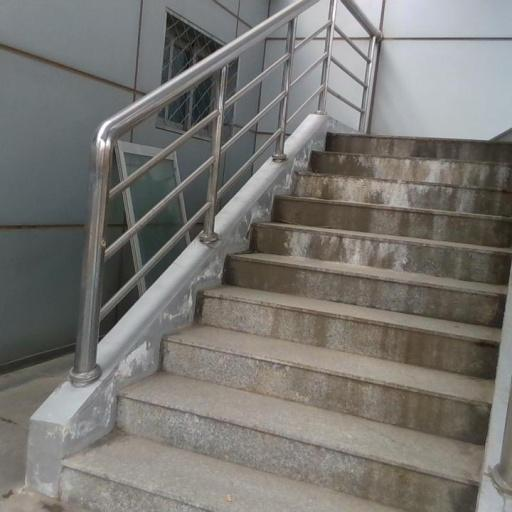stairs: (61, 135, 511, 511)
